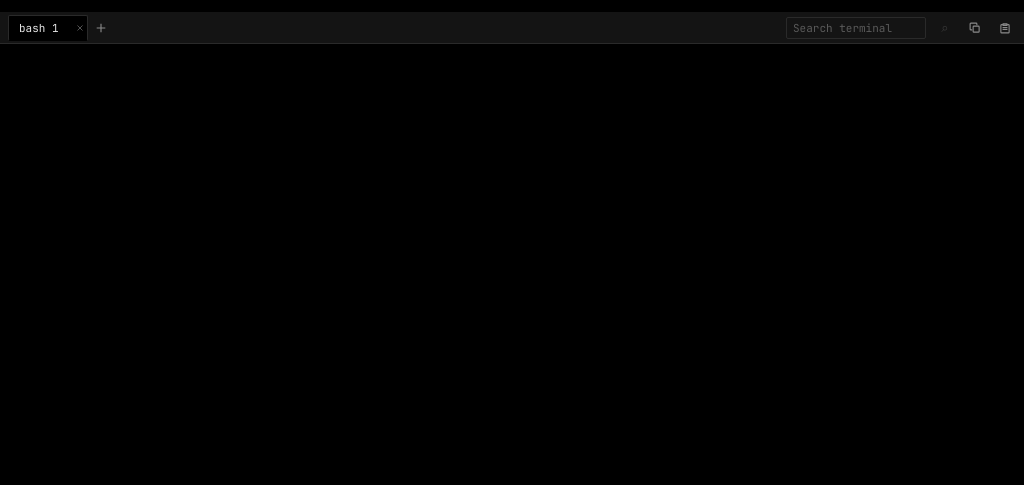
Test: TerminalPanel tabs › sends TerminalClose and removes the tab
Click the button named "Close bash 1" at (80, 28), box [73,20,87,34]
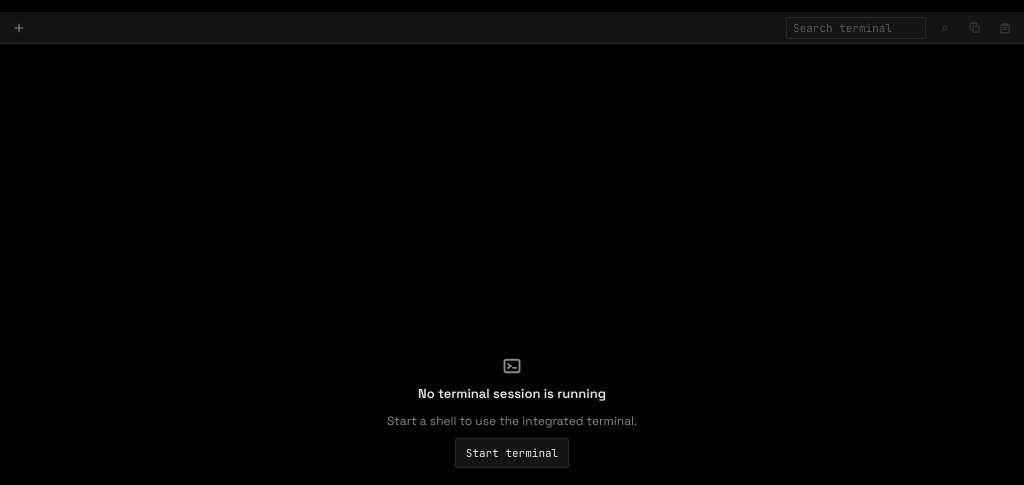
Check: the tab "bash 1" is gone
